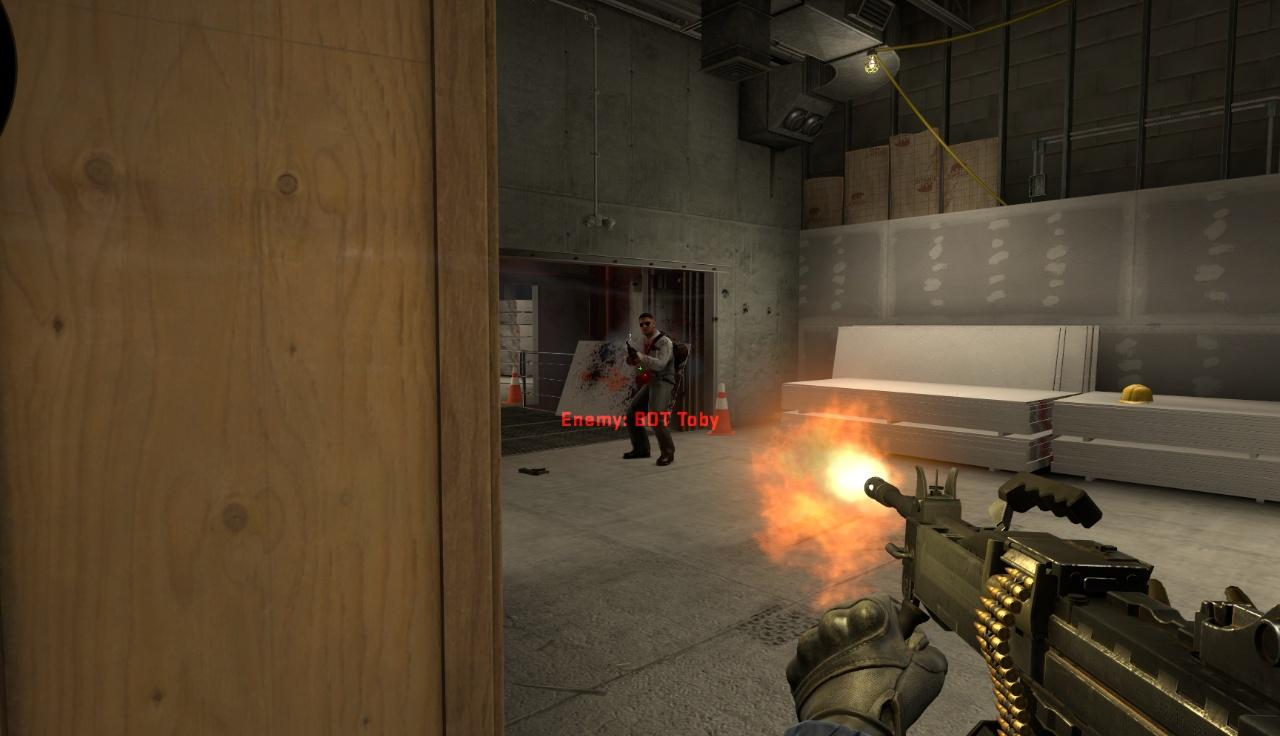rifle: (851, 458, 1280, 736)
tt: (630, 314, 679, 466)
tthead: (638, 314, 655, 335)
